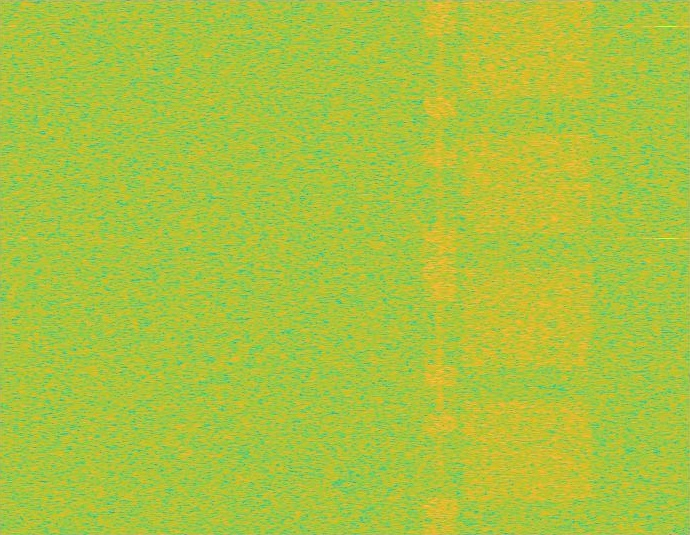5G: (458, 0, 596, 534)
DSSS: (436, 0, 444, 534)
LTE: (423, 0, 457, 534)
Radar: (660, 0, 674, 534)
